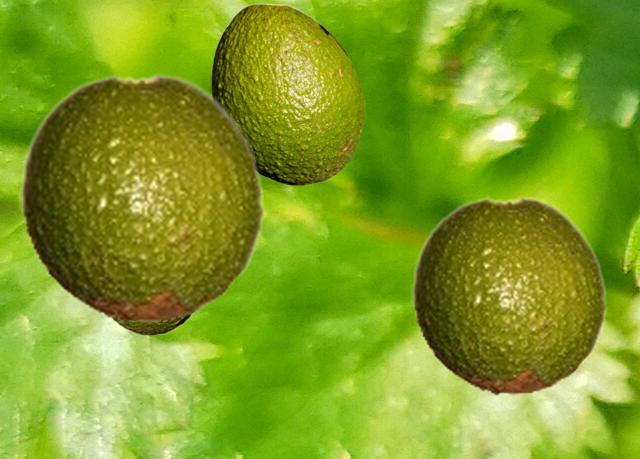avocado: (19, 73, 266, 323), (411, 196, 608, 395), (211, 3, 364, 184), (111, 315, 192, 335)
